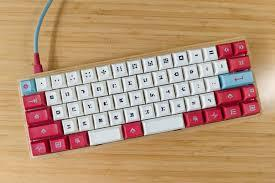keyboard: (17, 36, 261, 159)
